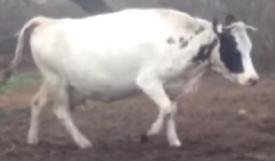cow: (18, 8, 260, 150)
